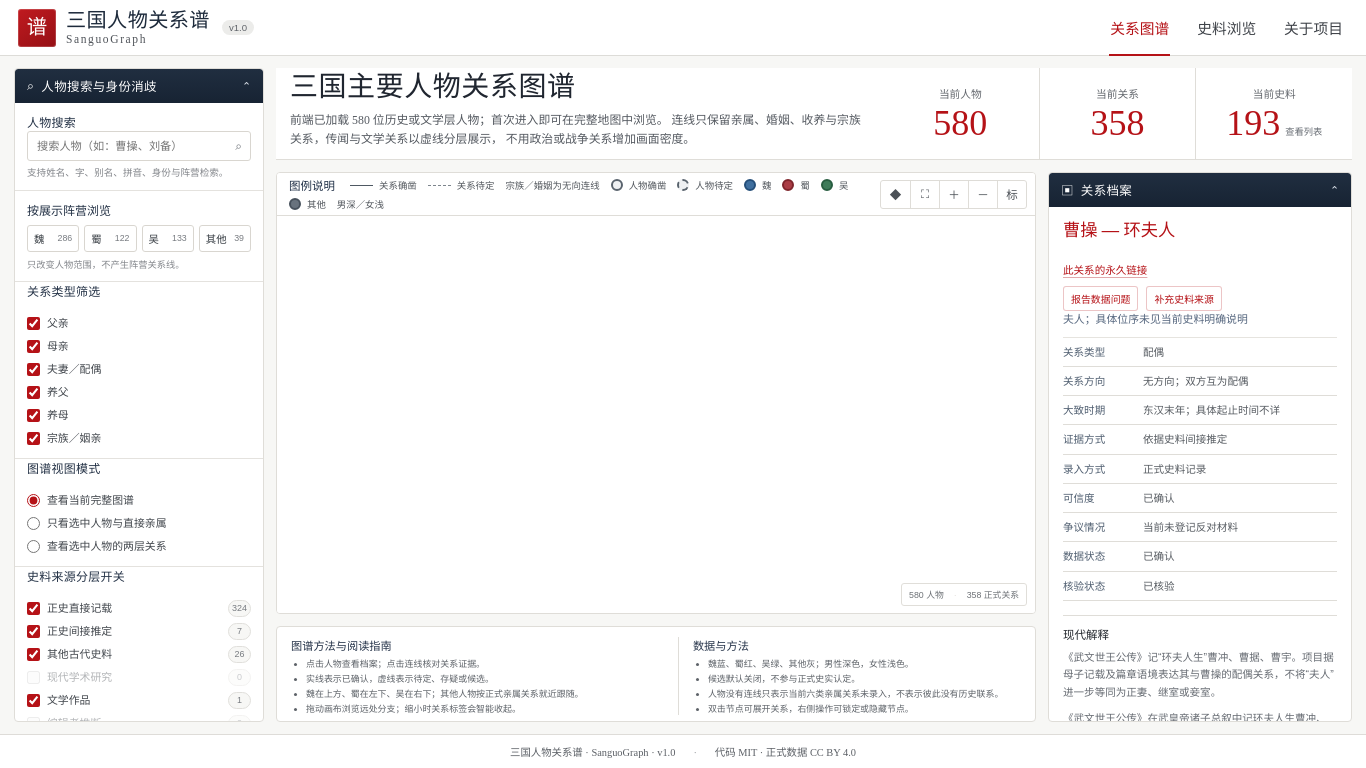
Scenario: application routes and home interaction › selects a fourth-batch Xiahou person already loaded in the complete graph
Type "夏侯霸" into the search field labelled "人物搜索".
click(139, 146); type("夏侯霸")  # box left=27, top=131, right=251, bottom=161
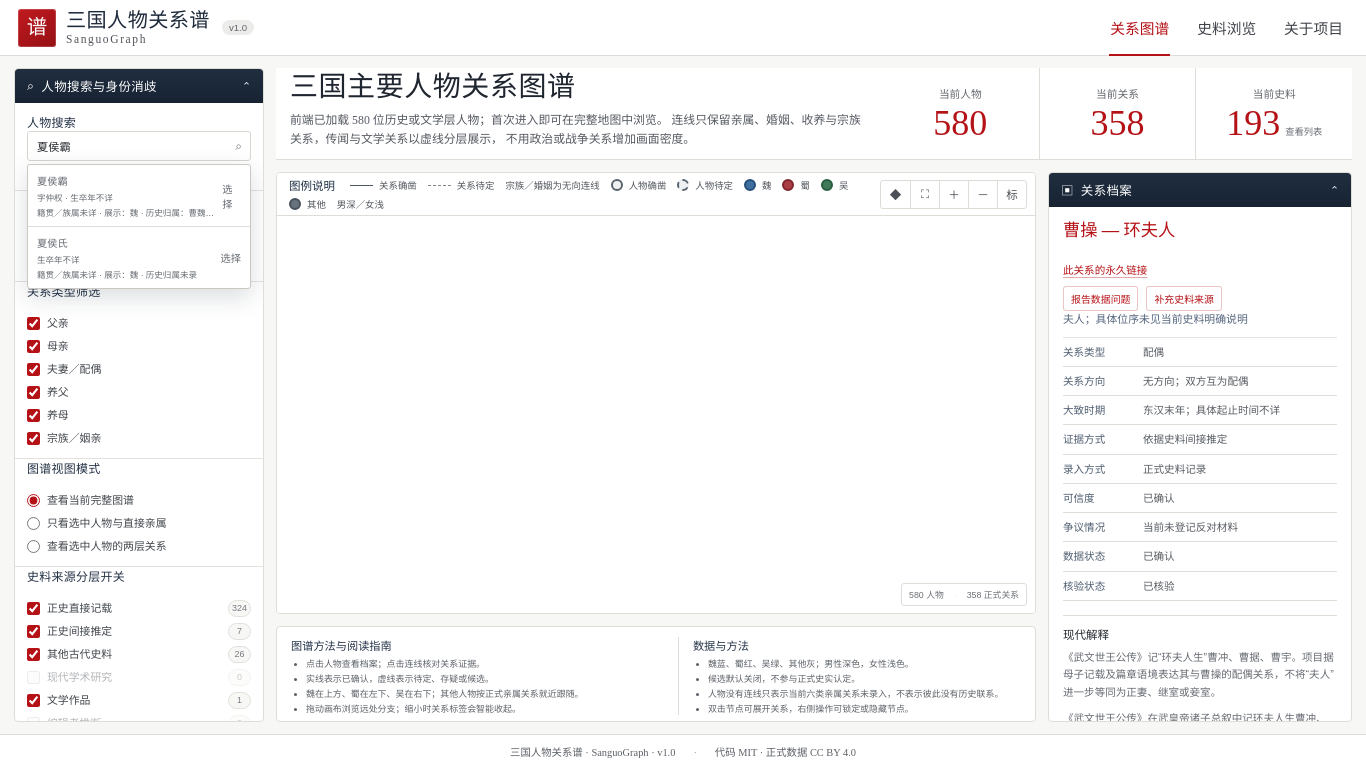
Click the button "夏侯霸".
click(139, 196)  # box left=28, top=165, right=250, bottom=226
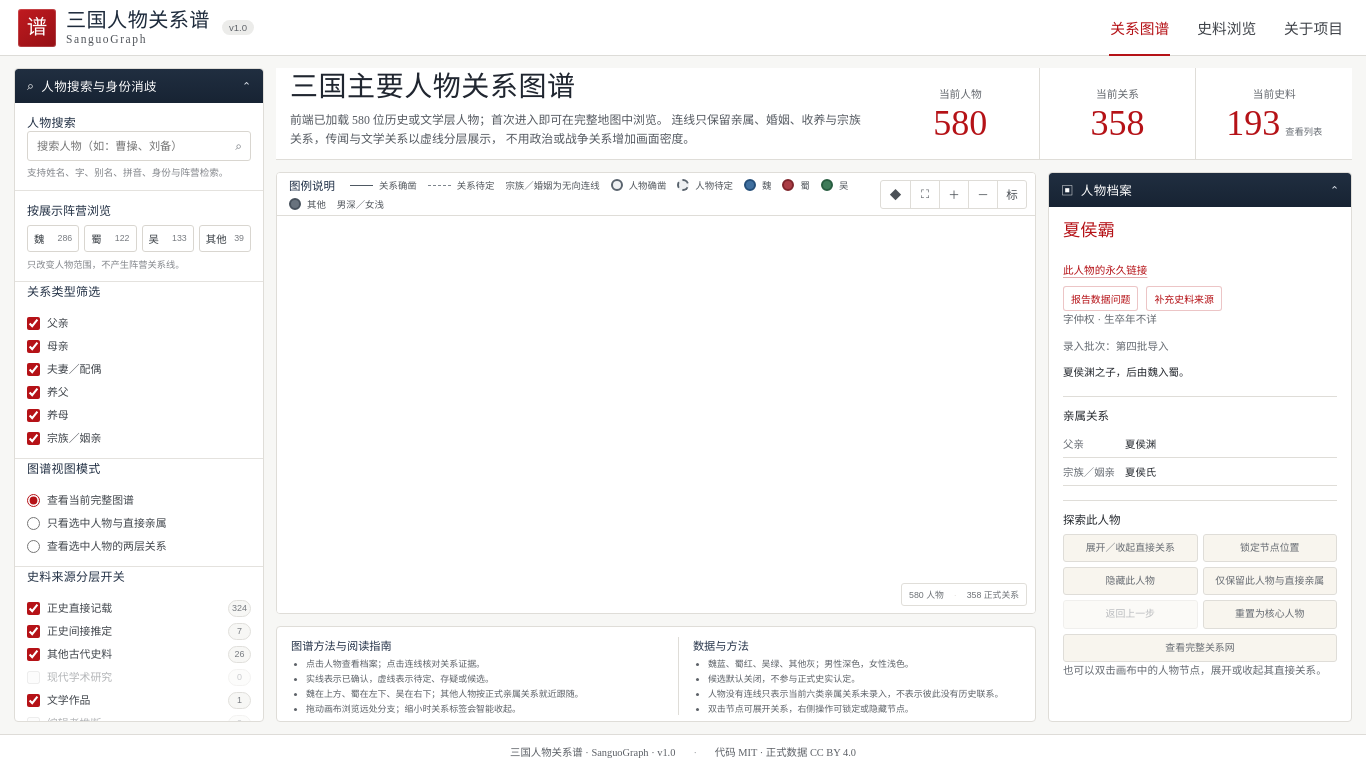
expect the heading "夏侯霸" is shown: met, box left=1063, top=221, right=1115, bottom=240
expect the text "录入批次：第四批导入" is shown: met, box left=1063, top=340, right=1168, bottom=352
